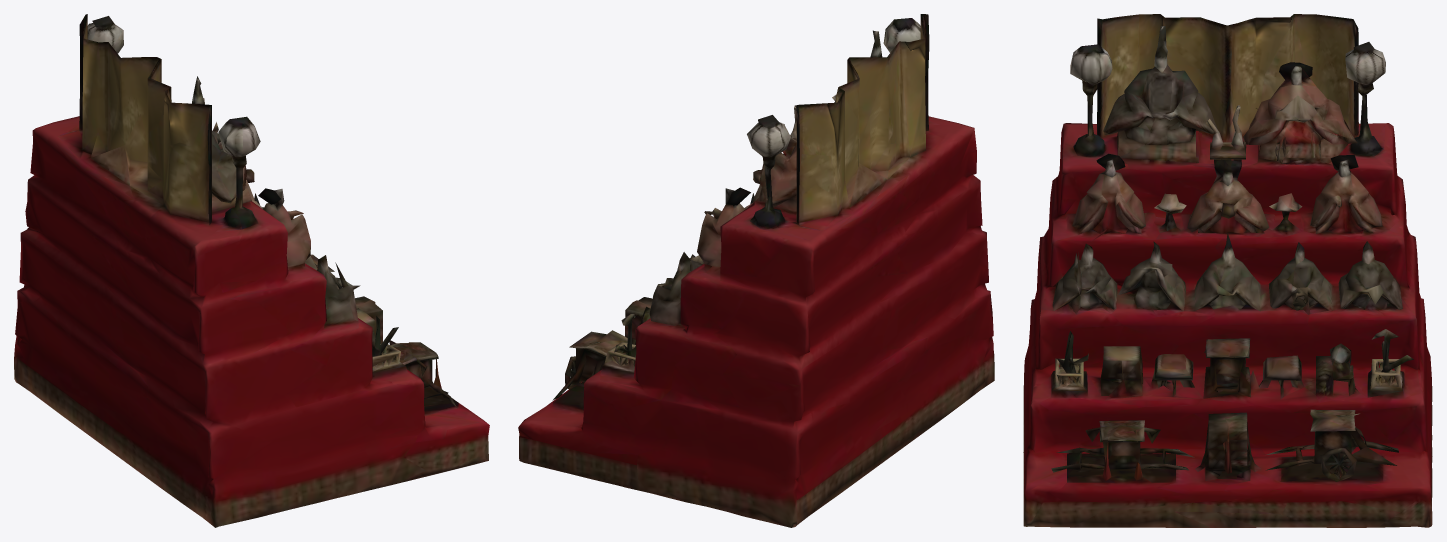
Rendered from hinadan.glb.
3 views of the same model, side by side, from view 1: azimuth 30°, elevation 25°; view 2: azimuth 150°, elevation 25°; view 3: azimuth 270°, elevation 25° (orthographic).
Parts seen in each view (by area): view 1: tripo_node_0caf24bd-40a9-4097-815c-25438df98b03; view 2: tripo_node_0caf24bd-40a9-4097-815c-25438df98b03; view 3: tripo_node_0caf24bd-40a9-4097-815c-25438df98b03.
Boxes of the visible parts, x1,y1,x2,y2 form: tripo_node_0caf24bd-40a9-4097-815c-25438df98b03: (14,14,489,527); tripo_node_0caf24bd-40a9-4097-815c-25438df98b03: (518,14,994,527); tripo_node_0caf24bd-40a9-4097-815c-25438df98b03: (1023,14,1432,527).
Size of the model in its own units: 0.7488 by 1 by 0.9435.
Materials: 1 (1 with a texture image).
